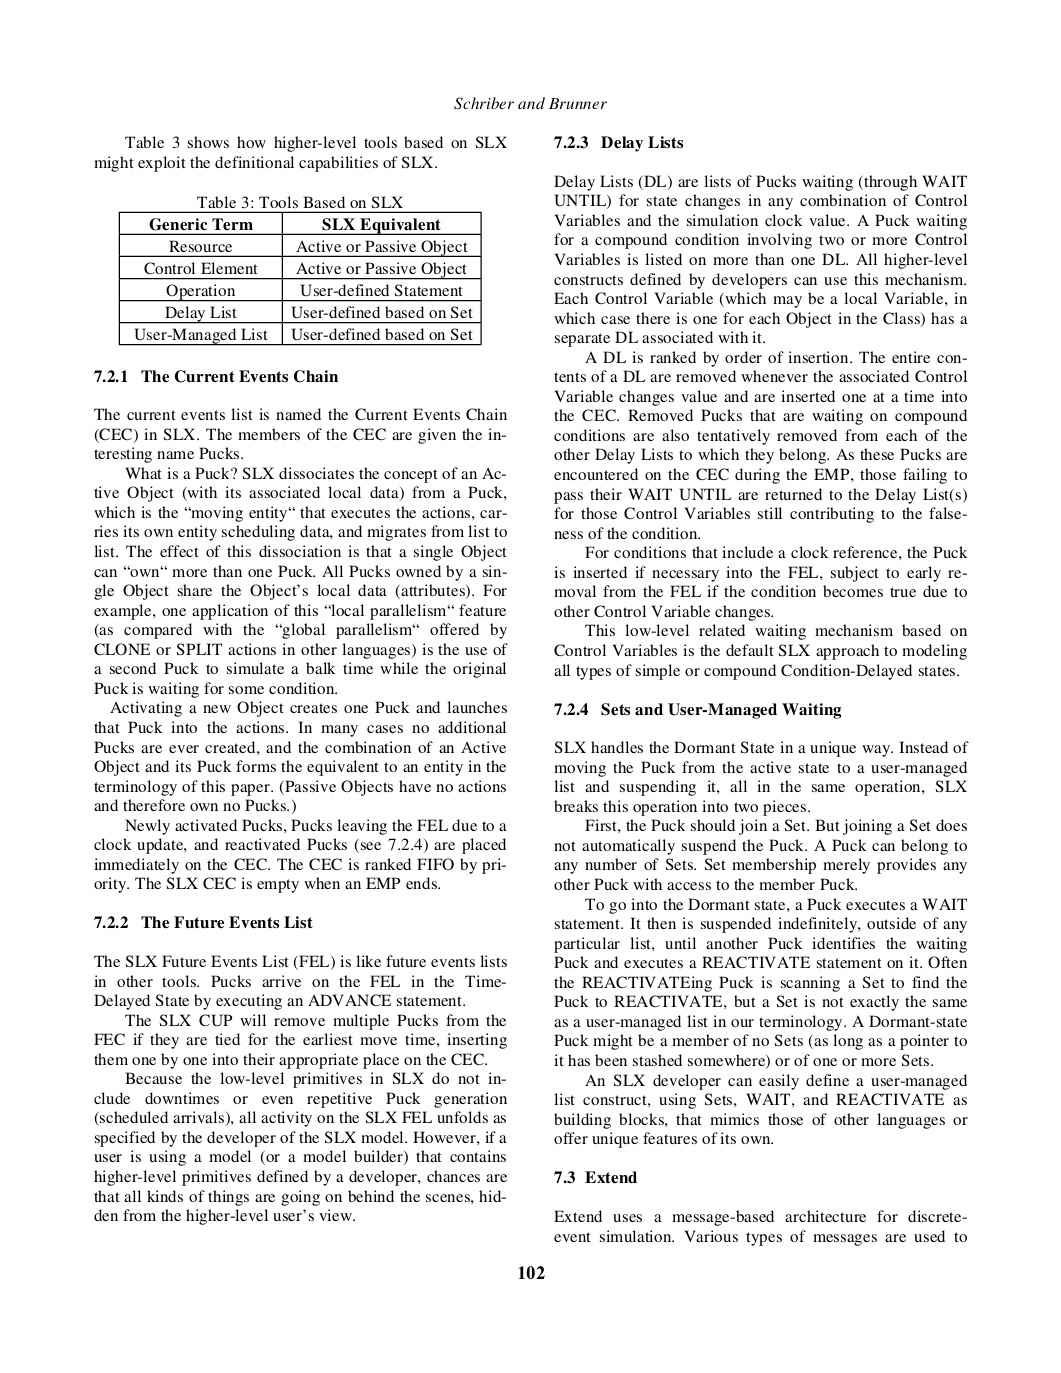Table: (118, 208, 481, 345)
